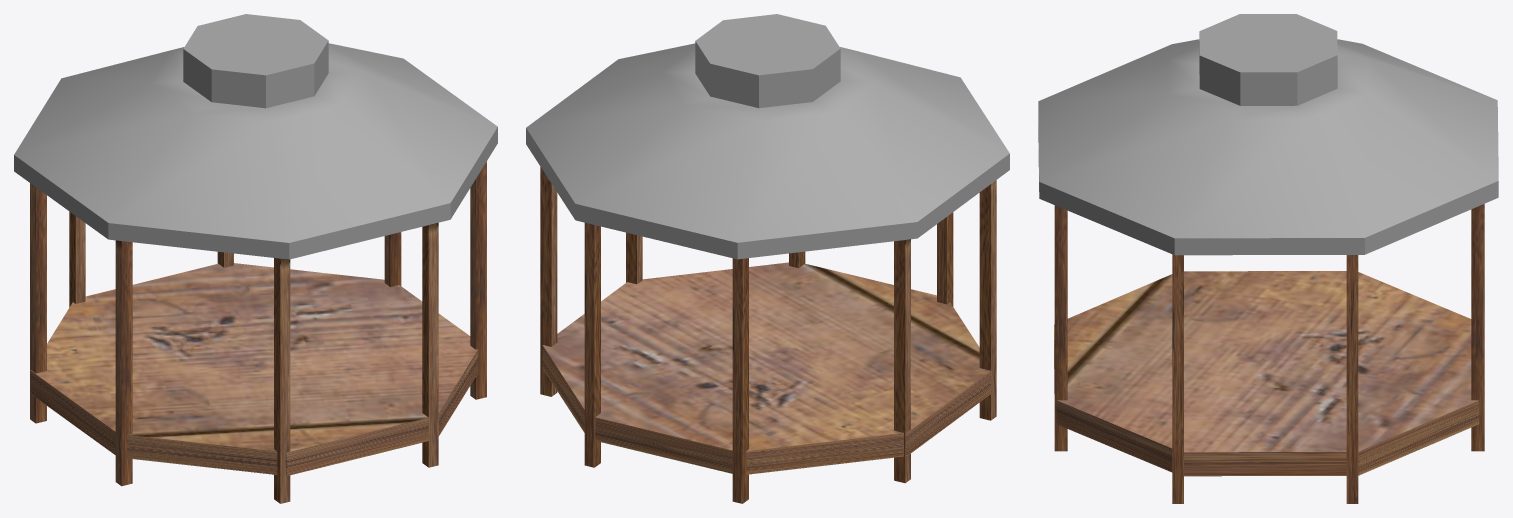
Rendered from Gazebo.fbx.
3 views of the same model, side by side, from view 1: azimuth 30°, elevation 25°; view 2: azimuth 150°, elevation 25°; view 3: azimuth 270°, elevation 25° (orthographic).
Visible parts, largest first — view 1: GazeboRoof, GazeboFloor, pasted__pasted__pasted__GazeboPost2, GazeboPost3, GazeboPost1, pasted__pasted__GazeboPost2, pasted__pasted__pasted__pasted__GazeboPost1, GazeboPost4, pasted__pasted__pasted__pasted__GazeboPost2; view 2: GazeboRoof, GazeboFloor, GazeboPost4, GazeboPost2, pasted__pasted__pasted__GazeboPost2, pasted__pasted__pasted__pasted__GazeboPost1, pasted__pasted__pasted__pasted__GazeboPost2, GazeboPost3, pasted__pasted__GazeboPost2; view 3: GazeboRoof, GazeboFloor, GazeboPost2, pasted__pasted__pasted__pasted__GazeboPost2, GazeboPost1, pasted__pasted__GazeboPost2.
Boxes of the visible parts, left/top/right/bottom form: GazeboRoof: left=14, top=14, right=497, bottom=259; GazeboFloor: left=30, top=263, right=478, bottom=475; pasted__pasted__pasted__GazeboPost2: left=115, top=240, right=132, bottom=486; GazeboPost3: left=274, top=258, right=290, bottom=503; GazeboPost1: left=422, top=222, right=438, bottom=467; pasted__pasted__GazeboPost2: left=470, top=161, right=486, bottom=399; pasted__pasted__pasted__pasted__GazeboPost1: left=30, top=183, right=46, bottom=423; GazeboPost4: left=69, top=211, right=85, bottom=307; pasted__pasted__pasted__pasted__GazeboPost2: left=384, top=232, right=401, bottom=286; GazeboRoof: left=526, top=14, right=1009, bottom=259; GazeboFloor: left=542, top=262, right=990, bottom=474; GazeboPost4: left=732, top=258, right=748, bottom=503; GazeboPost2: left=584, top=222, right=600, bottom=467; pasted__pasted__pasted__GazeboPost2: left=979, top=180, right=996, bottom=420; pasted__pasted__pasted__pasted__GazeboPost1: left=894, top=239, right=910, bottom=483; pasted__pasted__pasted__pasted__GazeboPost2: left=540, top=167, right=557, bottom=396; GazeboPost3: left=937, top=212, right=953, bottom=306; pasted__pasted__GazeboPost2: left=626, top=232, right=642, bottom=284; GazeboRoof: left=1038, top=14, right=1498, bottom=255; GazeboFloor: left=1054, top=271, right=1479, bottom=476; GazeboPost2: left=1471, top=204, right=1484, bottom=451; pasted__pasted__pasted__pasted__GazeboPost2: left=1346, top=255, right=1358, bottom=503; GazeboPost1: left=1054, top=205, right=1067, bottom=451; pasted__pasted__GazeboPost2: left=1172, top=254, right=1183, bottom=503.
Size of the model in its own units: 20.67 by 18.29 by 20.67.
